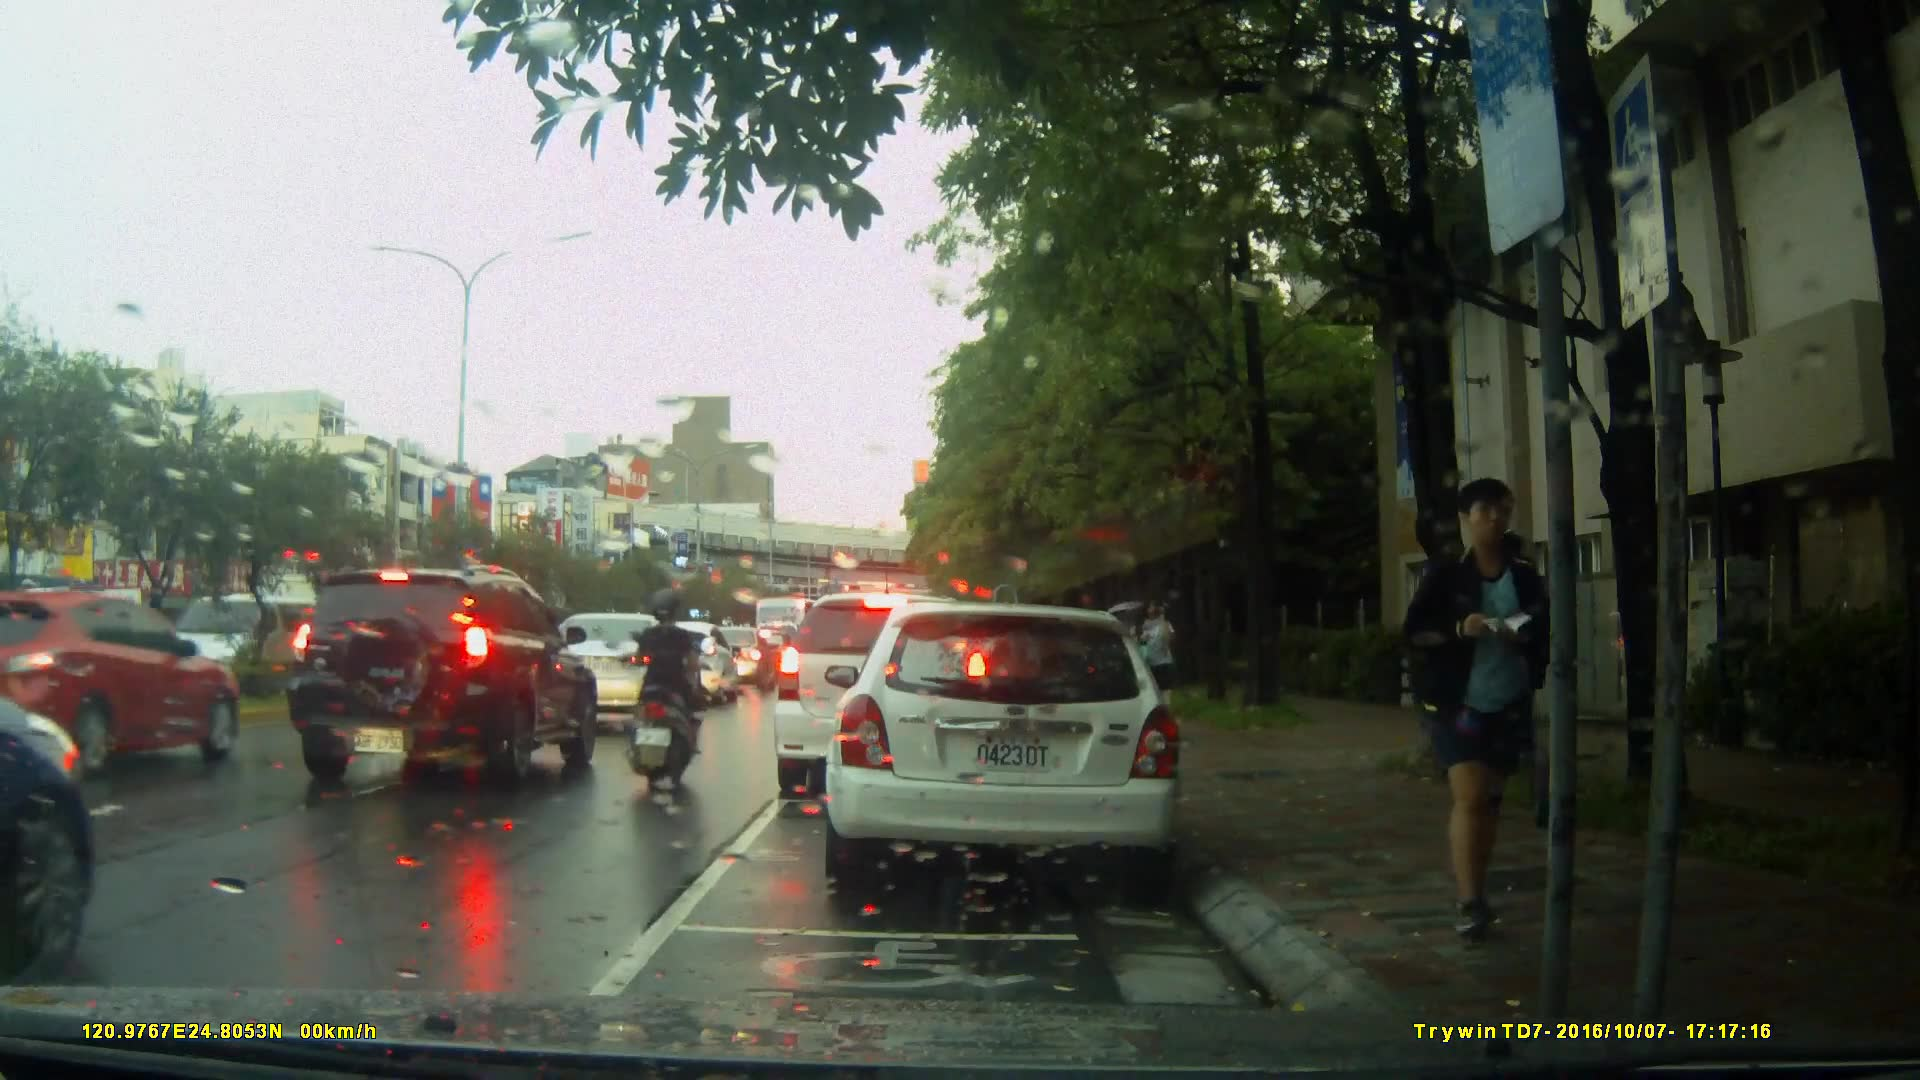pedestrian: (1416, 469, 1573, 932), (1472, 510, 1556, 824), (1130, 588, 1184, 730)
rider: (626, 587, 721, 796)
vehicle: (815, 593, 1201, 899), (278, 562, 600, 796), (1, 586, 253, 787), (771, 590, 995, 802), (523, 611, 698, 739), (699, 626, 769, 685)
